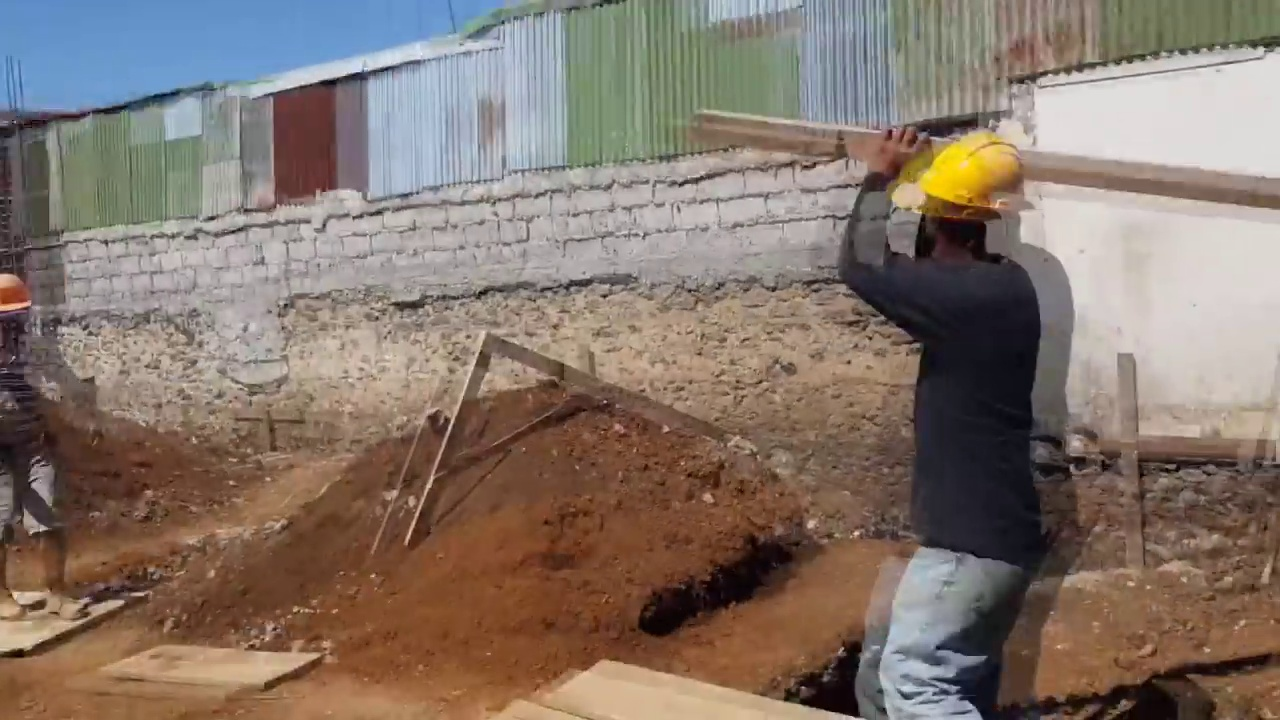helmet: (911, 125, 1031, 219), (0, 268, 33, 323)
helmet-on: (908, 123, 1028, 268)
person: (820, 117, 1069, 705), (2, 269, 58, 627)
